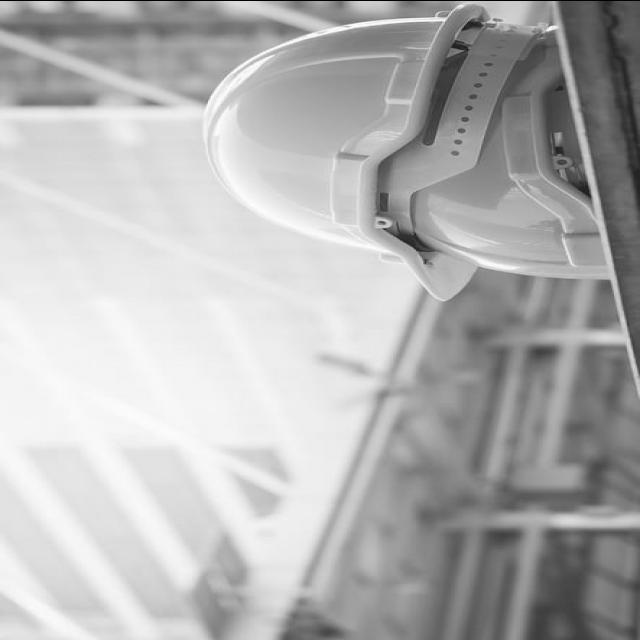safety_helmet: (202, 1, 556, 302)
